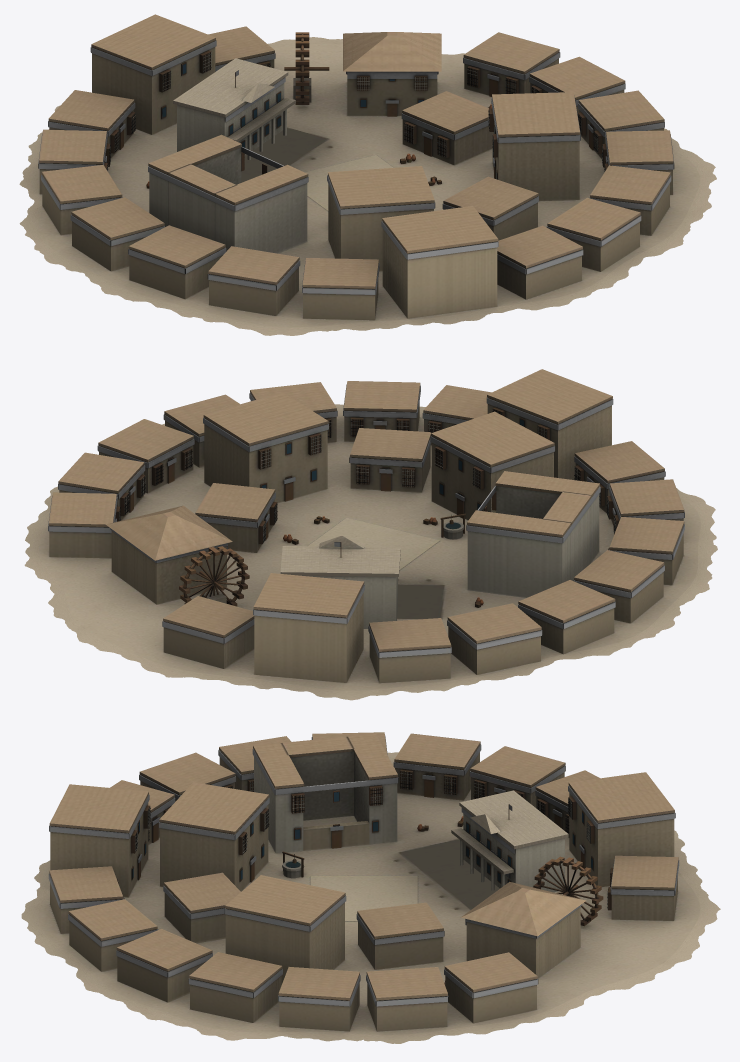
Rendered from gunpowder-town-big-a-nile-67d83dfd.glb.
The picture shows the model from 3 angles, top to bottom: view 1: azimuth 30°, elevation 25°; view 2: azimuth 150°, elevation 25°; view 3: azimuth 270°, elevation 25°; orthographic projection.
Visible parts, largest first — view 1: LOD0; view 2: LOD0; view 3: LOD0.
Part boxes in pixels (bbox=[...]): LOD0: bbox=[19, 14, 716, 335]; LOD0: bbox=[24, 369, 717, 700]; LOD0: bbox=[21, 732, 720, 1043].
Size of what is drawn, in the model's own units: 7.92 by 0.915 by 7.99.
3 materials, 3 textured.
